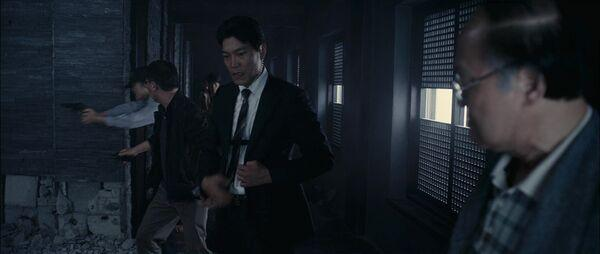Gun: (62, 103, 87, 113)
